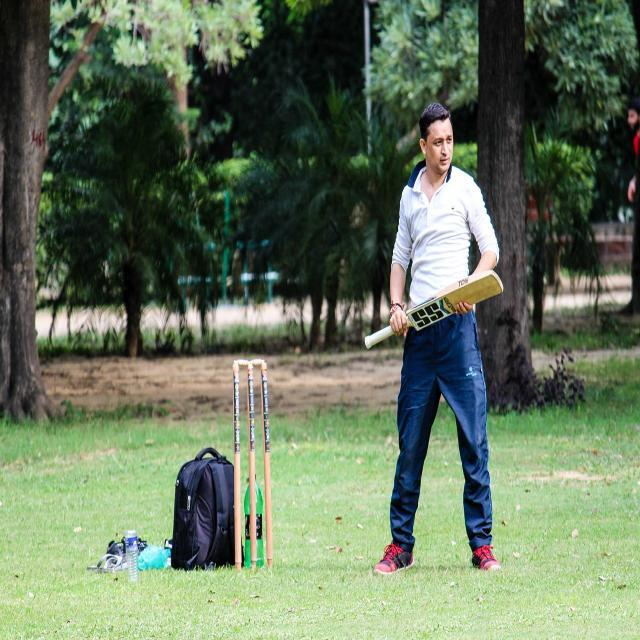stumps: (230, 355, 277, 571)
